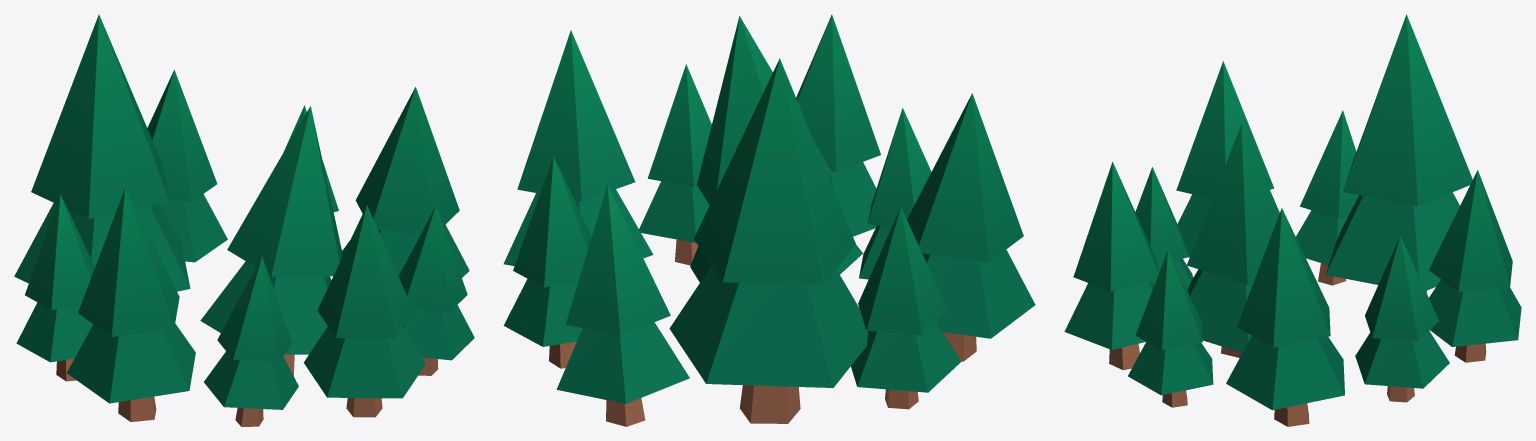
The model's file is trees_A_medium.glb.
The picture shows the model from 3 angles, left to right: view 1: azimuth 30°, elevation 25°; view 2: azimuth 150°, elevation 25°; view 3: azimuth 270°, elevation 25°; orthographic projection. The views are drawn at different scales.
Parts seen in each view (by area): view 1: trees_A_medium; view 2: trees_A_medium; view 3: trees_A_medium.
Boxes of the visible parts, <box> form: trees_A_medium: <box>14,14,474,426</box>; trees_A_medium: <box>503,14,1035,426</box>; trees_A_medium: <box>1064,14,1521,426</box>.
Bounding box in the file's own units: 1.75 × 1.3 × 1.81.
Materials: 1 (1 with a texture image).
